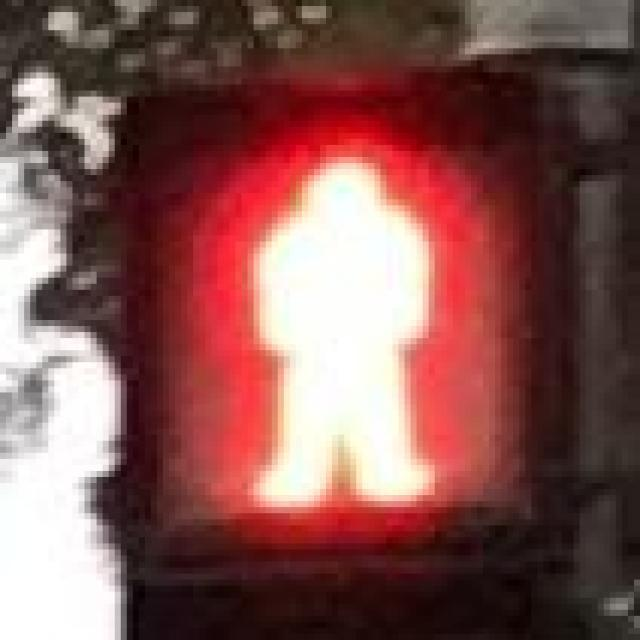red-crossing: (126, 102, 502, 532)
